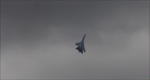maybay_muctieu: (75, 34, 89, 55)
